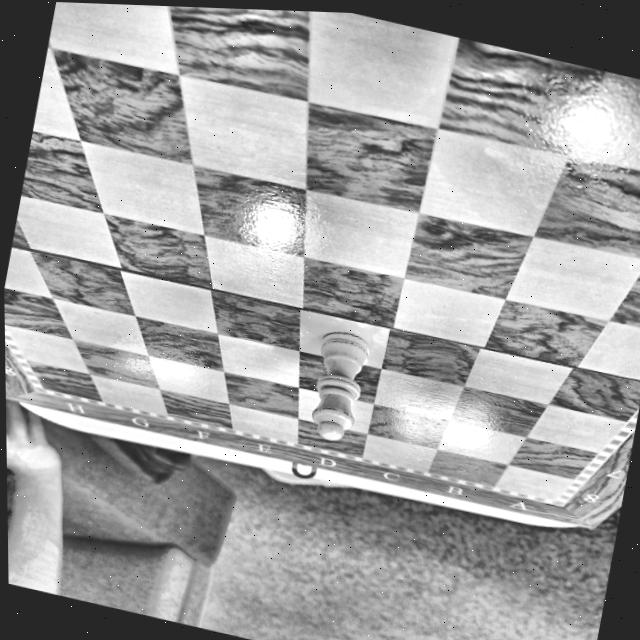white-queen: (312, 333, 370, 441)
